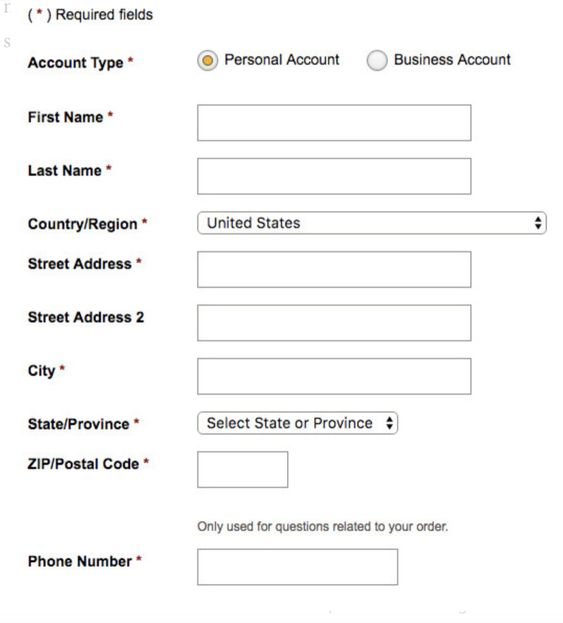_form_: (14, 32, 527, 451), (18, 184, 481, 603)
field: (194, 156, 473, 198), (195, 103, 473, 144), (193, 250, 471, 291), (194, 357, 473, 397), (195, 304, 471, 343), (195, 548, 398, 588), (194, 450, 289, 490)
field_with_label: (24, 100, 476, 147), (21, 153, 473, 200), (22, 246, 474, 293), (24, 299, 476, 346), (25, 354, 477, 401), (25, 542, 403, 590), (26, 207, 550, 238), (26, 408, 406, 440), (26, 448, 293, 493)
radio: (196, 49, 222, 74), (365, 48, 389, 72)
radio_with_label: (193, 46, 340, 77), (362, 46, 516, 75)
select: (198, 210, 548, 234), (198, 411, 399, 435)
